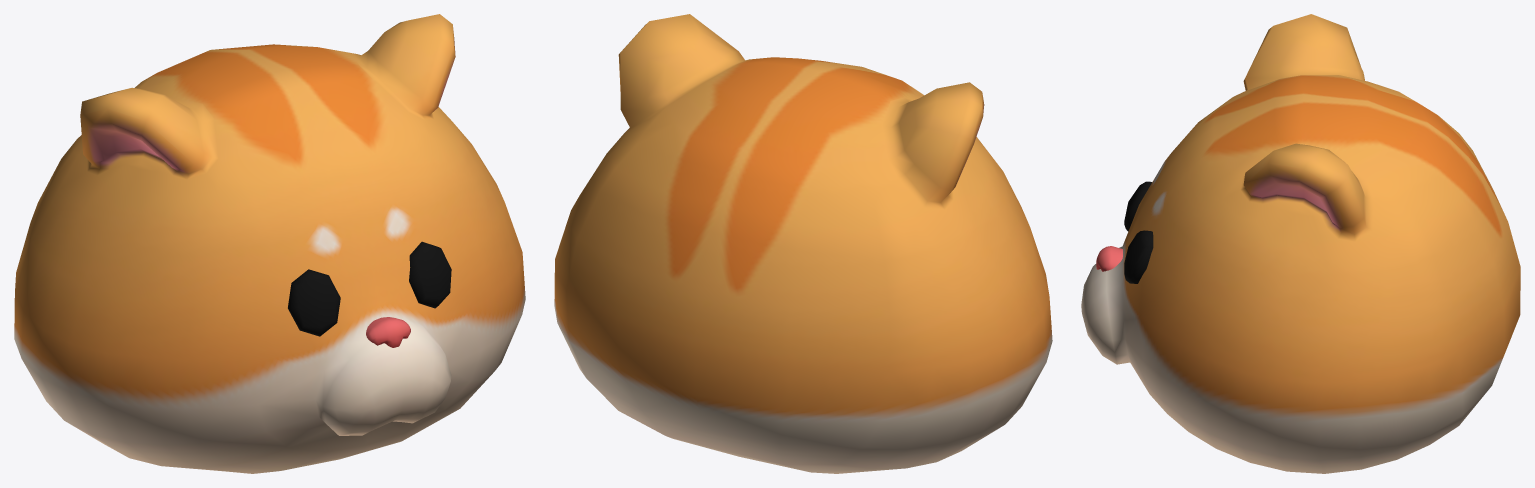
File: cat.fbx
The picture shows the model from 3 angles, left to right: view 1: azimuth 30°, elevation 25°; view 2: azimuth 150°, elevation 25°; view 3: azimuth 270°, elevation 25°; orthographic projection. The views are drawn at different scales.
Visible parts, largest first — view 1: cat; view 2: cat; view 3: cat.
Boxes of the visible parts, x1,y1,x2,y2 form: cat: [14, 14, 525, 473]; cat: [554, 14, 1052, 473]; cat: [1081, 14, 1520, 473].
Bounding box in the file's own units: 109 × 86.2 × 101.
